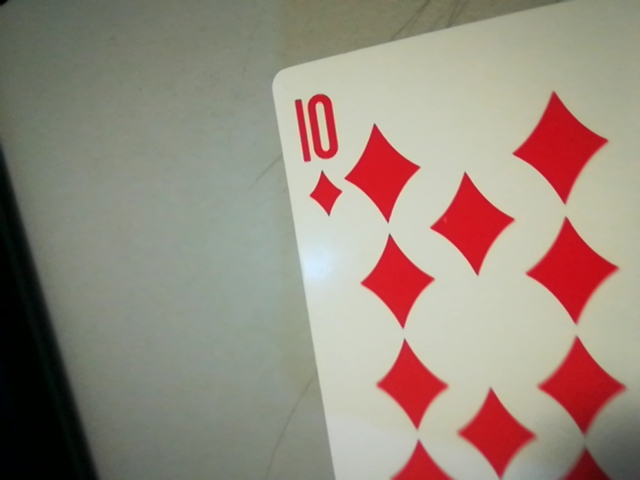fk 10: (285, 84, 353, 216)
